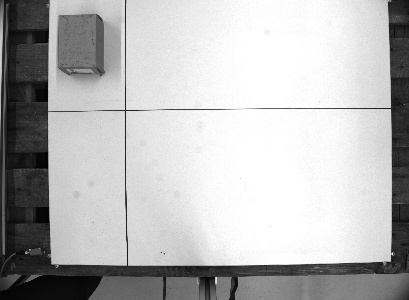b6: (53, 11, 106, 78)
